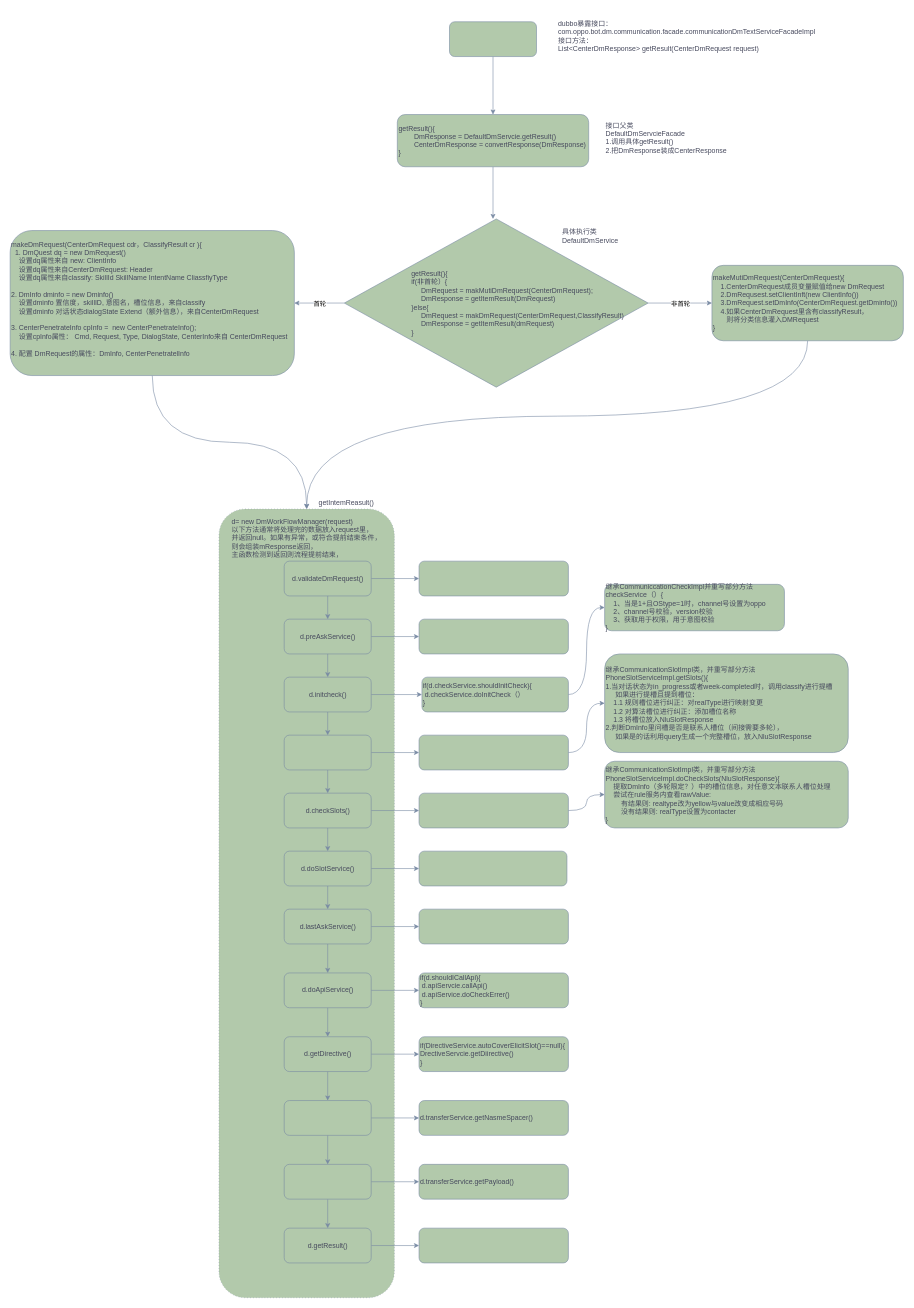
The diagram is 914 pixels wide and 1308 high, and some of its shapes have lost their labels. Each missing label, with the centre of its shape:
"d.getNamespace()" belongs at (x=327, y=1117).
"d.getPayload()" belongs at (x=327, y=1181).
"d.getSlot()" belongs at (x=327, y=752).
"d.resultService.getResult()" belongs at (x=493, y=1245).
"d.slotService.checkSlot()" belongs at (x=493, y=810).
"d.slotService.doSlotService()" belongs at (x=492, y=868).
"d.slotService.getSlots()" belongs at (x=493, y=752).
"getResult(){ supper.getResult() }" belongs at (x=492, y=39).
"检测是否缺乏skillName，无则直接返回DmResponse" belongs at (x=493, y=578).
"获取apiServcie,transferService, resultServcie放入对象d的成员属性" belongs at (x=493, y=926).
"获取checkService，slotService ,放入对象d的成员属性" belongs at (x=493, y=636).
